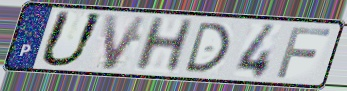4: (232, 22, 275, 80)
D: (181, 20, 231, 74)
F: (274, 25, 334, 80)
H: (130, 15, 198, 73)
U: (36, 8, 107, 69)
V: (102, 13, 150, 72)
